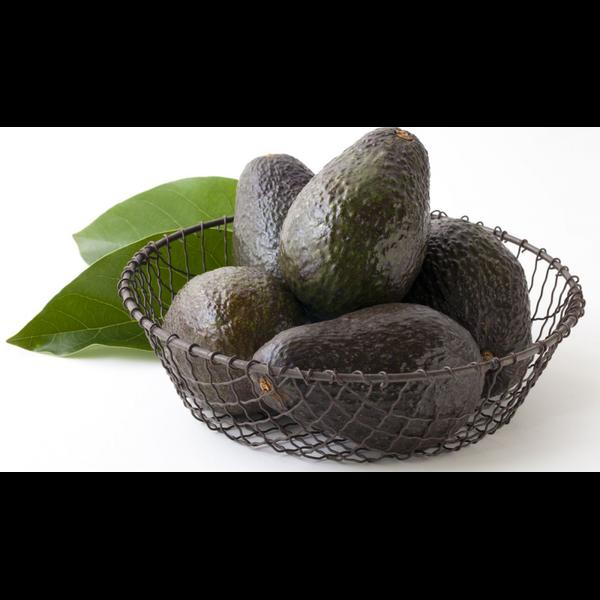almost: (278, 127, 430, 320)
ripe: (251, 303, 485, 452), (403, 218, 533, 399), (162, 266, 311, 418), (231, 154, 316, 292)
